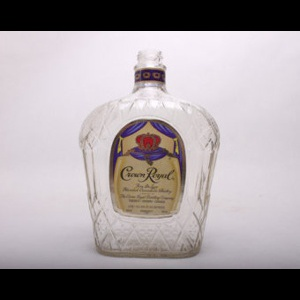emptybottle: (79, 49, 220, 258)
